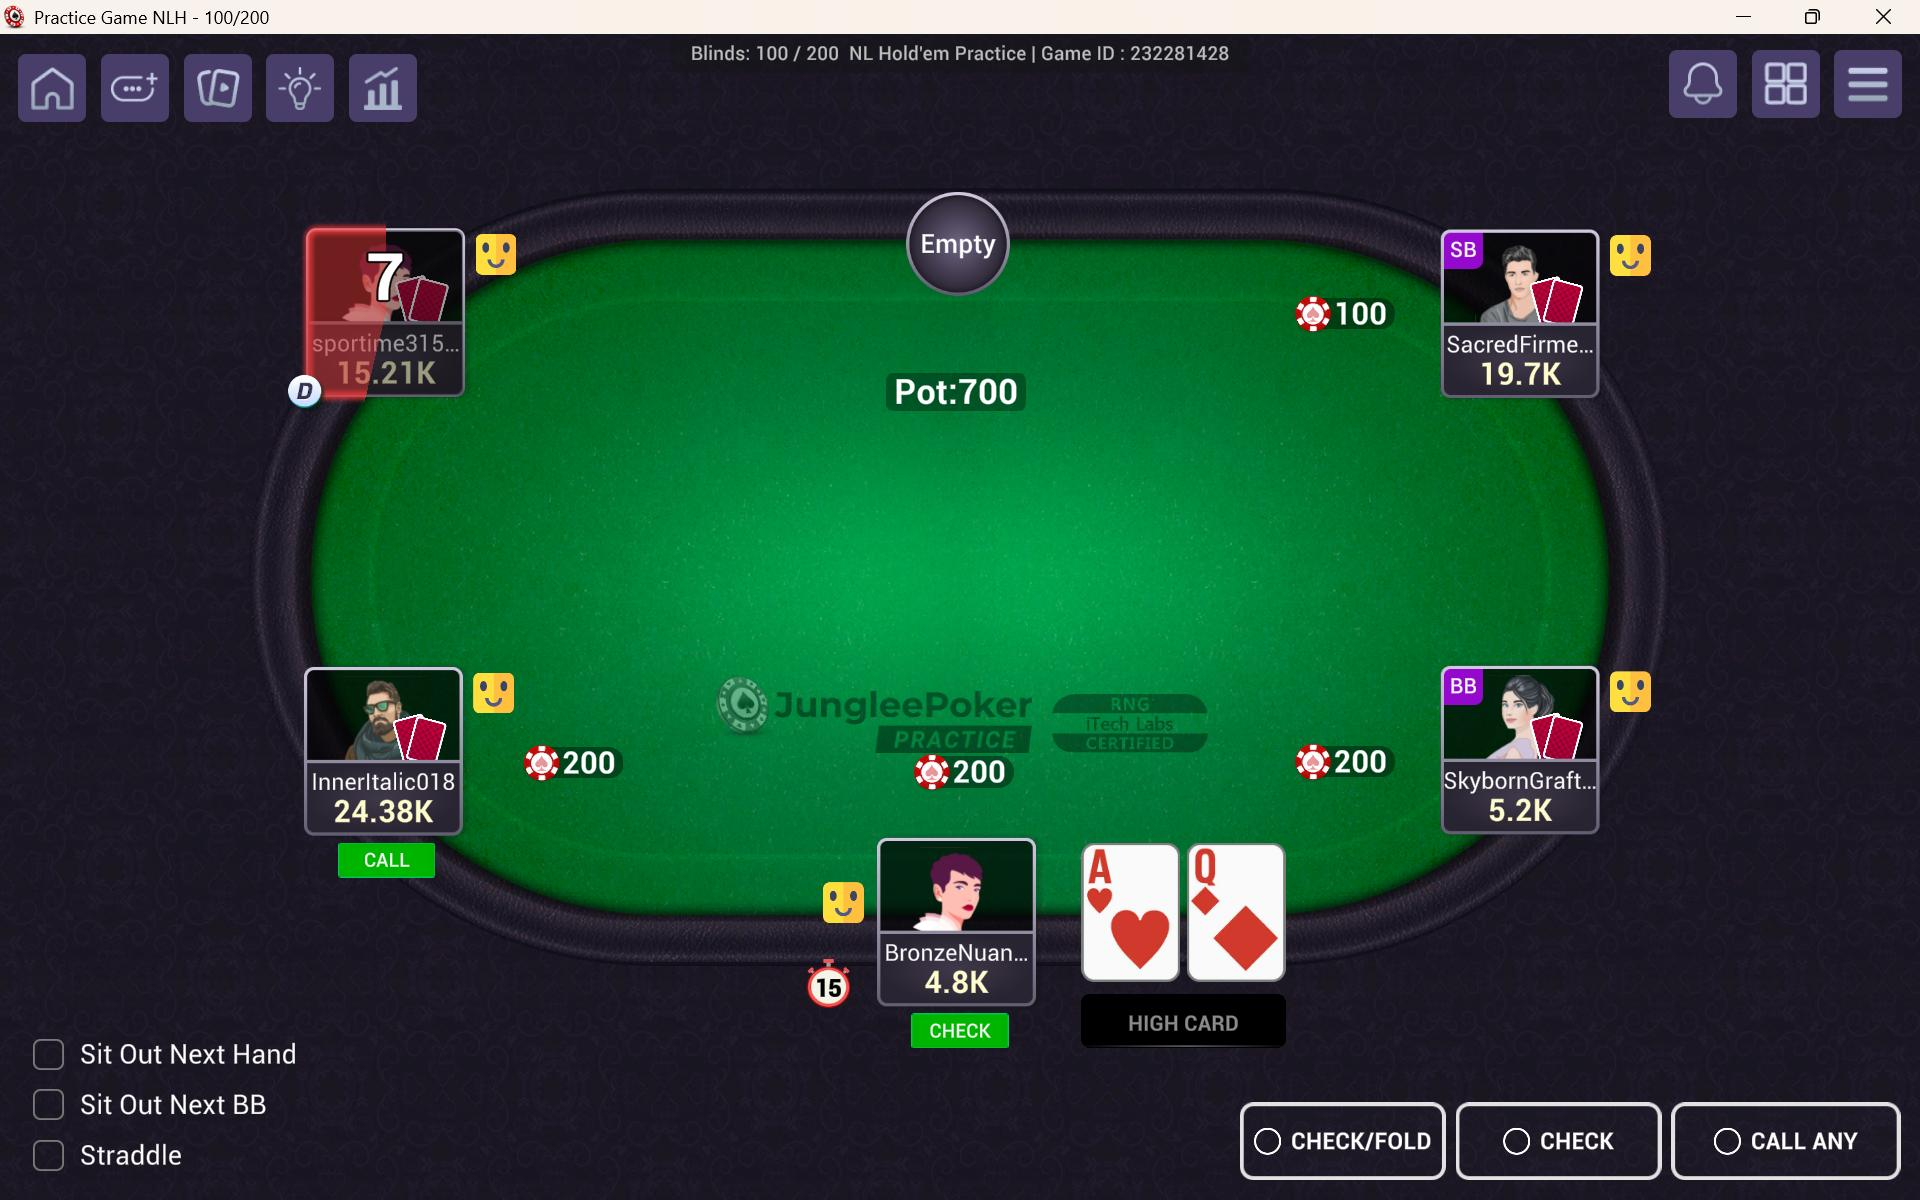card1_rank: (1082, 842, 1140, 888)
card1_suite_heart: (1110, 900, 1180, 980)
card2_rank: (1190, 847, 1245, 888)
card2_suite_diamond: (1212, 906, 1287, 980)
my_bet: (912, 758, 1017, 789)
my_stack: (912, 962, 1002, 1002)
total_pot: (885, 375, 1038, 415)
villian1_bet: (516, 742, 628, 780)
villian1_name: (303, 763, 463, 800)
villian1_stack: (318, 788, 448, 829)
villian2_name: (307, 328, 458, 358)
villian2_stack: (330, 353, 442, 395)
villian4_bet: (1292, 294, 1395, 330)
villian4_name: (1453, 328, 1595, 359)
villian4_stack: (1472, 353, 1583, 398)
villian5_bet: (1286, 737, 1397, 782)
villian5_name: (1444, 763, 1601, 795)
villian5_stack: (1478, 795, 1568, 832)
